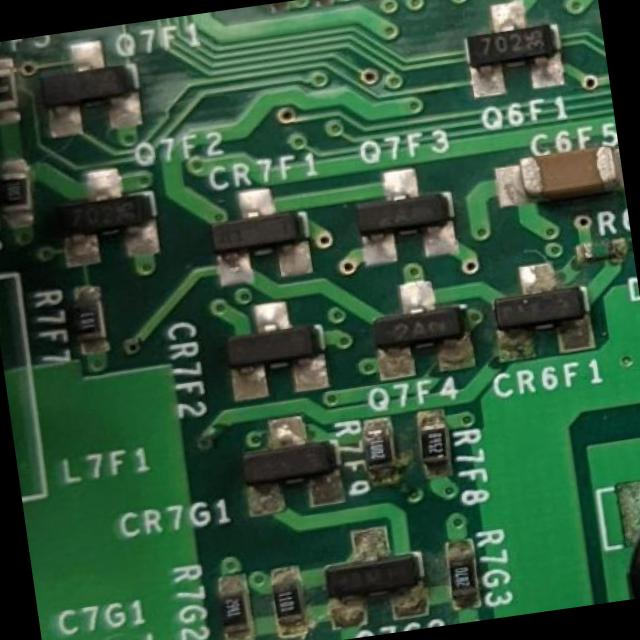capacitor: (512, 144, 624, 201)
resistor: (74, 290, 110, 352), (415, 414, 454, 471), (212, 587, 254, 638), (360, 414, 396, 472), (270, 574, 307, 628), (446, 542, 480, 600), (0, 172, 40, 220), (585, 241, 626, 266), (0, 67, 19, 113)
transistor: (455, 10, 567, 100), (218, 312, 332, 398), (204, 195, 316, 282), (316, 539, 430, 619), (365, 290, 475, 370), (37, 54, 145, 134), (232, 429, 346, 503), (483, 276, 595, 351), (52, 180, 156, 259), (347, 177, 449, 254)
